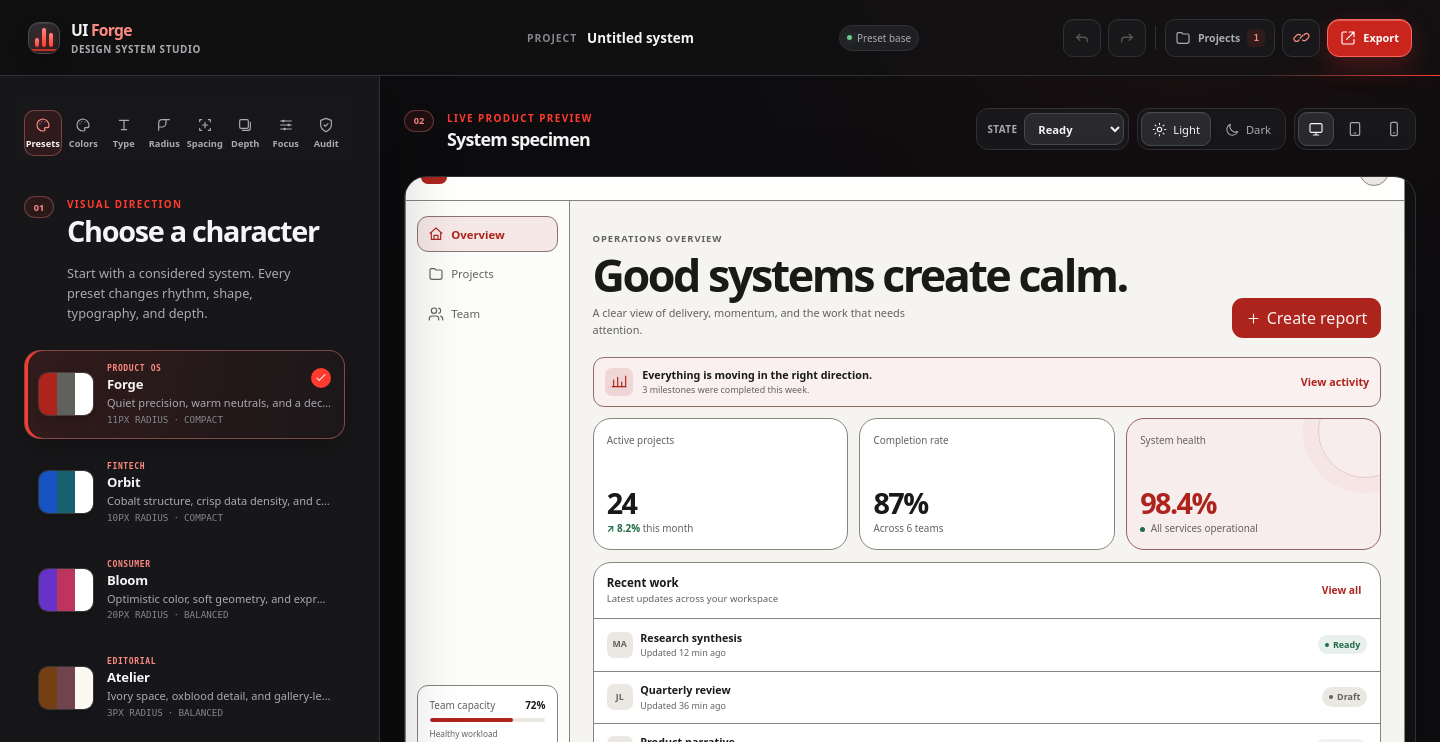
Test: UI Forge workspace › navigates through the specimen and exposes project actions
Click the button "Projects". click: click(488, 274)
box: [417,256,558,292]
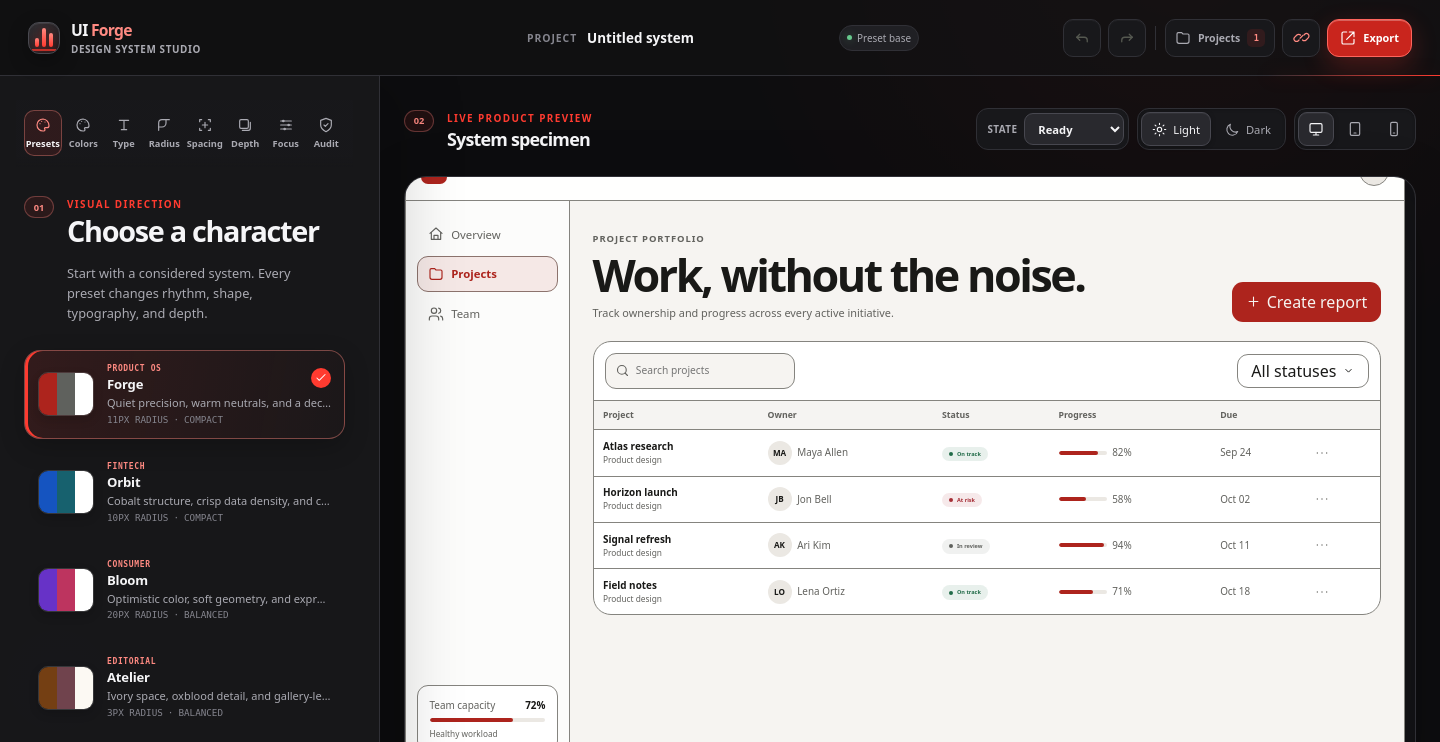
Expected: the table named "Active projects" is shown, [594,401,1380,614]
Click the button named "Actions for Atlas research". click: click(1322, 453)
box: [1308,439,1336,467]
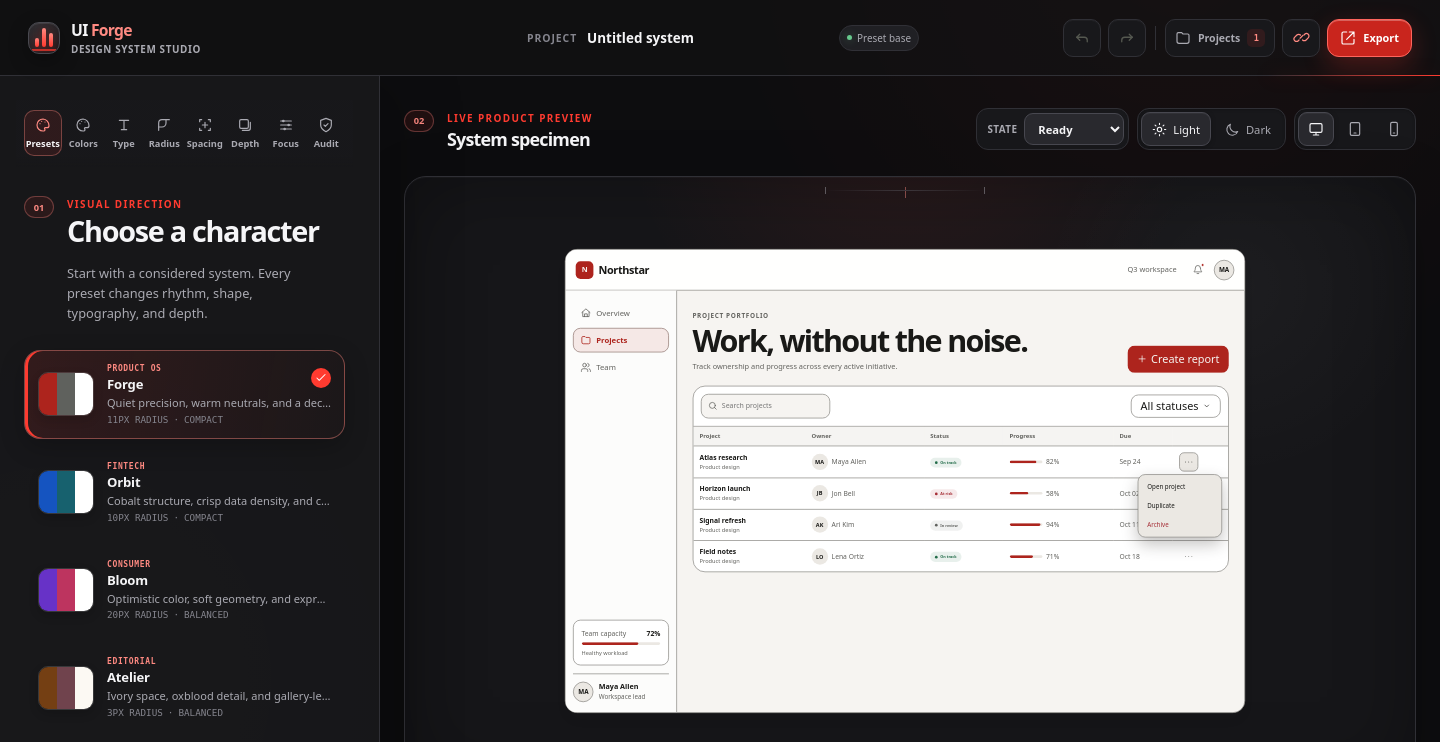
Expected: the menu is shown, [1138,474,1222,537]
Expected: the menu item "Open project" is shown, [1141,478,1219,496]
